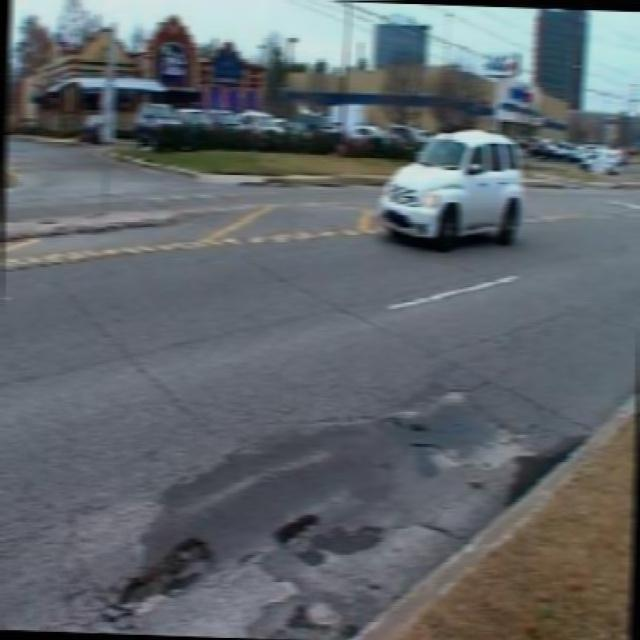Pothole: (99, 531, 224, 630), (269, 506, 327, 558), (290, 593, 346, 628), (401, 415, 439, 453)
